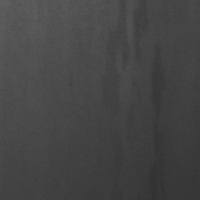inclusion: (102, 3, 141, 191), (145, 32, 173, 199)
